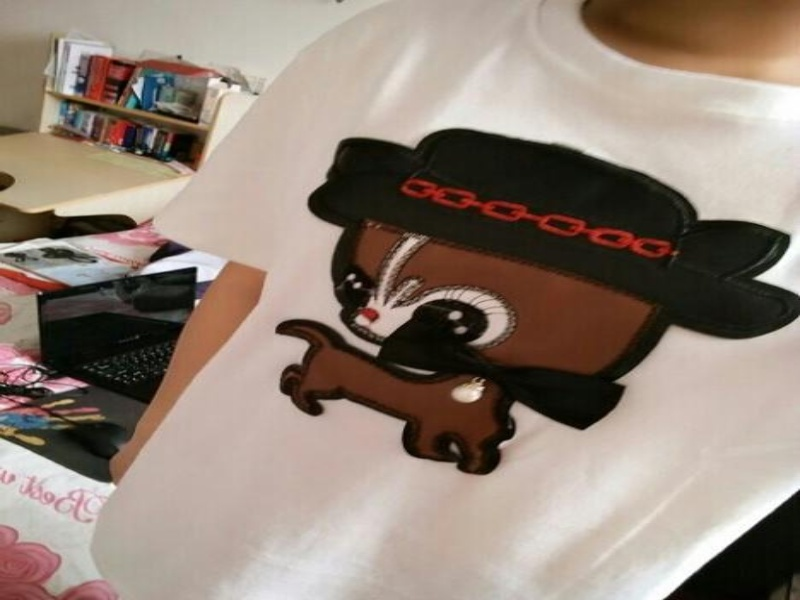short_sleeved_shirt: (82, 0, 798, 599)
